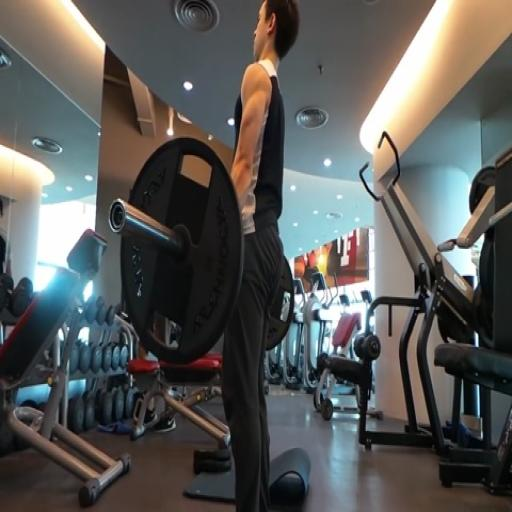exercise: (219, 0, 303, 511)
